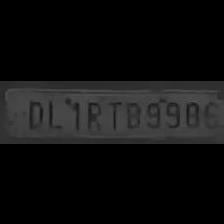1: (64, 96, 82, 130), (105, 96, 123, 130)
8: (180, 97, 202, 128)
9: (142, 96, 162, 128), (162, 96, 180, 128)
B: (122, 97, 142, 129)
D: (23, 95, 45, 129)
L: (44, 95, 62, 129)
